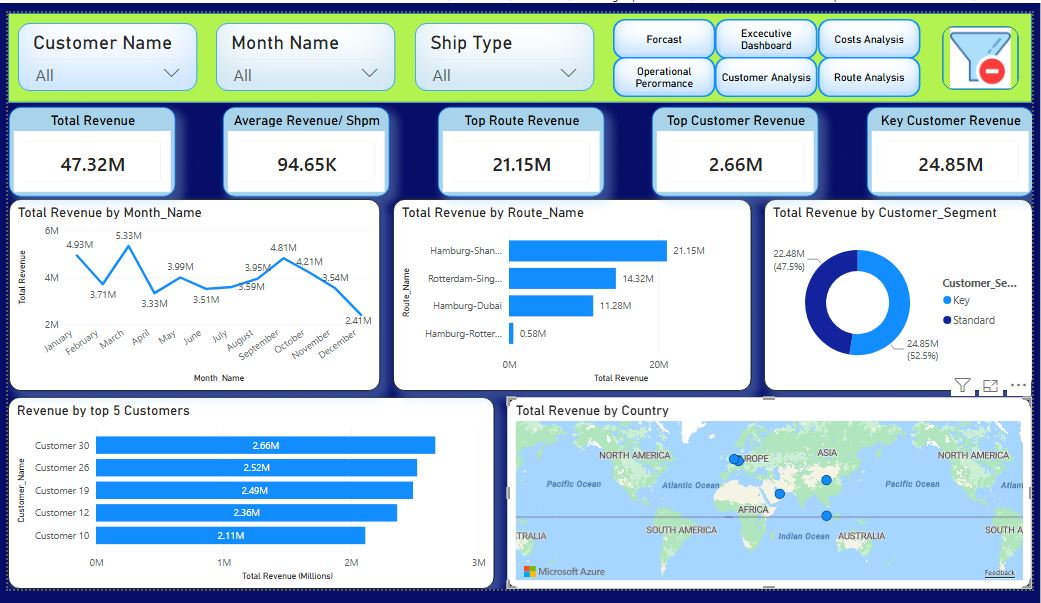

The page's visual inventory and layout, read from the dashboard file:
{"tool":"powerbi","page":{"name":"02 Revenue Analysis","canvas":[1280,720],"ordinal":1},"visuals":[{"type":"shape","box":[0,0,1280,112],"z":0,"group":"g2"},{"type":"cardVisual","title":"Average Revenue/ Shpm","fields":{"Data":["Measure.M_Average Revenue per Shipment"]},"box":[269.2,117.2,208,112],"z":0},{"type":"image","box":[1168,16,96,80],"z":1000,"group":"g2"},{"type":"barChart","title":"Revenue by top 5 Customers","fields":{"Y":["Measure.M_Total Revenue"],"Category":["Dim_Customers.Customer_Name"]},"box":[0,480,608,240],"z":1000},{"type":"slicer","fields":{"Values":["Dim_Ships.Ship_Type"]},"box":[508.5,12.5,224,85],"z":2000,"group":"g2"},{"type":"donutChart","title":"Total Revenue by Customer_Segment","fields":{"Y":["Measure.M_Total Revenue"],"Category":["Dim_Customers.Customer_Segment"]},"box":[944.7,232.5,336,240],"z":2000},{"type":"slicer","fields":{"Values":["Calender.Month_Name"]},"box":[260.5,12.5,224,85],"z":3000,"group":"g2"},{"type":"lineChart","title":"Total Revenue by Month_Name","fields":{"Y":["Measure.M_Total Revenue"],"Category":["Calender.Month_Name"]},"box":[0.7,232.5,464,240],"z":3000},{"type":"slicer","fields":{"Values":["Dim_Customers.Customer_Name"]},"box":[12.5,12.5,224,85],"z":4000,"group":"g2"},{"type":"clusteredBarChart","title":"Total Revenue by Route_Name","fields":{"Y":["Measure.M_Total Revenue"],"Category":["Dim_Routes.Route_Name"]},"box":[480.7,232.5,448,240],"z":4000},{"type":"shape","box":[756.2,7.5,128,50],"z":5000,"group":"g2"},{"type":"cardVisual","title":"Total Revenue","fields":{"Data":["Measure.M_Total Revenue"]},"box":[1.2,117.2,208,112],"z":5000},{"type":"shape","box":[884.2,7.5,128,50],"z":6000,"group":"g2"},{"type":"cardVisual","title":"Top Route Revenue","fields":{"Data":["Measure.M_Top Route Revenue"]},"box":[537.2,117.2,208,112],"z":6000},{"type":"shape","box":[1012.2,7.5,128,50],"z":7000,"group":"g2"},{"type":"cardVisual","title":"Key Customer Revenue","fields":{"Data":["Measure.M_Revenue Key Customers"]},"box":[1073.2,117.2,208,112],"z":7000},{"type":"shape","box":[756.2,55.5,128,50],"z":8000,"group":"g2"},{"type":"cardVisual","title":"Top Customer Revenue","fields":{"Data":["Measure.M_Top Customer Revenue"]},"box":[805.2,117.2,208,112],"z":8000},{"type":"shape","box":[884.2,55.5,128,50],"z":9000,"group":"g2"},{"type":"azureMap","fields":{"Size":["Measure.M_Total Revenue"],"Category":["Dim_Ports.Country"]},"box":[624,480,656,240],"z":9000},{"type":"group","id":"g1","title":"Group 1","box":[0,0,1280,112],"z":10000},{"type":"shape","box":[1012.2,55.5,128,50],"z":10000,"group":"g2"},{"type":"group","id":"g2","title":"Group 2","box":[0,0,1280,112],"z":11001,"group":"g1"}]}

Visuals, with their boxes in screenshot pixels (x1, y1, x2, y2), scaled from the page's 1280x720 canvas onto the 1041x603 screenshot:
shape: [0, 0, 1040, 94]
"Average Revenue/ Shpm" cardVisual: [219, 98, 388, 192]
image: [950, 13, 1028, 80]
"Revenue by top 5 Customers" barChart: [0, 402, 494, 602]
slicer - Dim_Ships.Ship_Type: [414, 10, 596, 82]
"Total Revenue by Customer_Segment" donutChart: [768, 195, 1040, 396]
slicer - Calender.Month_Name: [212, 10, 394, 82]
"Total Revenue by Month_Name" lineChart: [1, 195, 378, 396]
slicer - Dim_Customers.Customer_Name: [10, 10, 192, 82]
"Total Revenue by Route_Name" clusteredBarChart: [391, 195, 755, 396]
shape: [615, 6, 719, 48]
"Total Revenue" cardVisual: [1, 98, 170, 192]
shape: [719, 6, 823, 48]
"Top Route Revenue" cardVisual: [437, 98, 606, 192]
shape: [823, 6, 927, 48]
"Key Customer Revenue" cardVisual: [873, 98, 1040, 192]
shape: [615, 46, 719, 88]
"Top Customer Revenue" cardVisual: [655, 98, 824, 192]
shape: [719, 46, 823, 88]
azureMap - Measure.M_Total Revenue x Dim_Ports.Country: [507, 402, 1040, 602]
"Group 1" group: [0, 0, 1040, 94]
shape: [823, 46, 927, 88]
"Group 2" group: [0, 0, 1040, 94]
